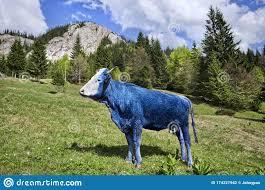cow: (79, 65, 200, 169)
